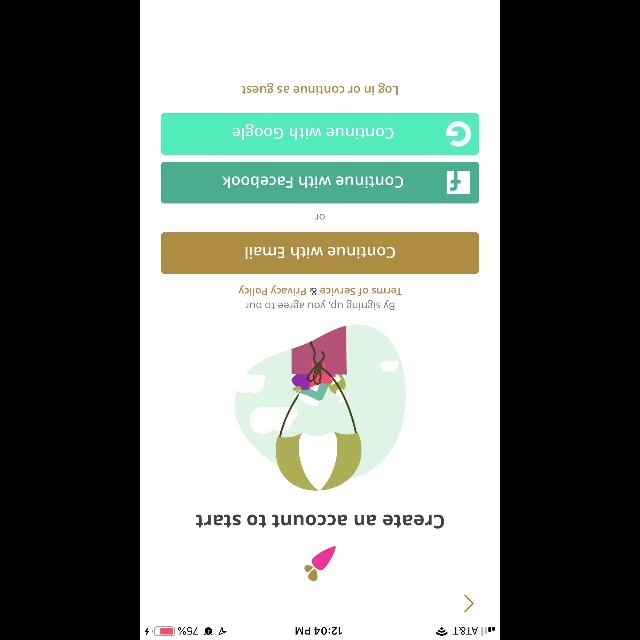icon: (464, 594, 474, 612)
image: (234, 325, 406, 491), (304, 546, 336, 580)
text: (238, 286, 402, 310), (196, 514, 444, 528), (241, 83, 397, 95), (315, 214, 325, 220)
textbutton: (161, 232, 479, 274), (161, 161, 479, 203), (161, 113, 479, 155)
uppertaskbar: (140, 626, 500, 640)
